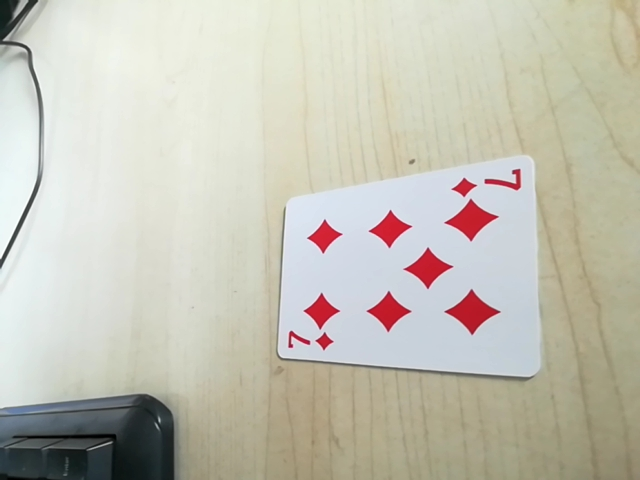fk 7: (452, 165, 528, 201), (280, 328, 339, 357)
